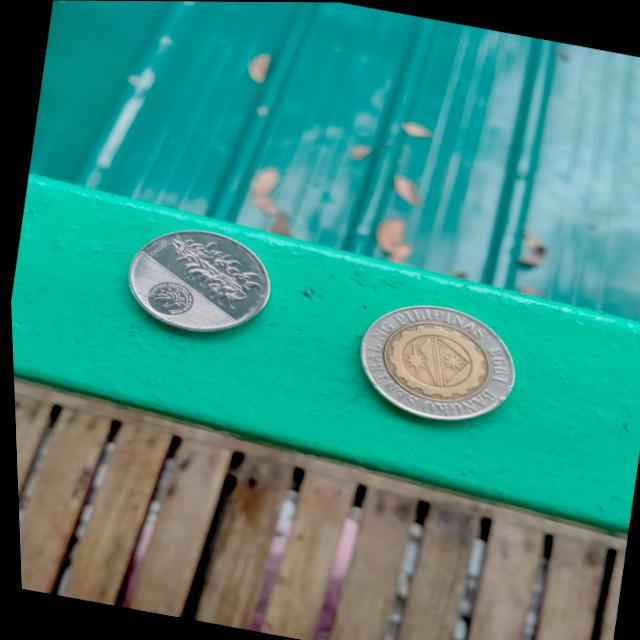10_Old_Back: (343, 289, 531, 435)
5_New_Back: (148, 224, 264, 307)
